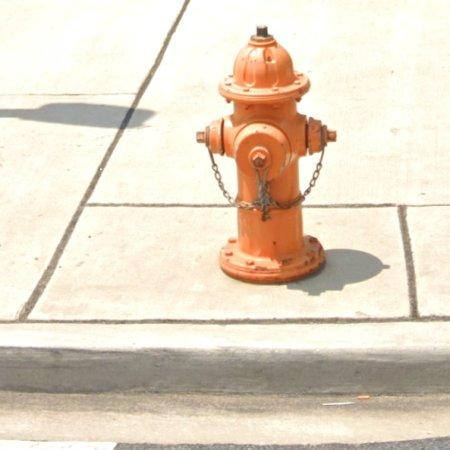a fire hydrant: (198, 26, 336, 284)
